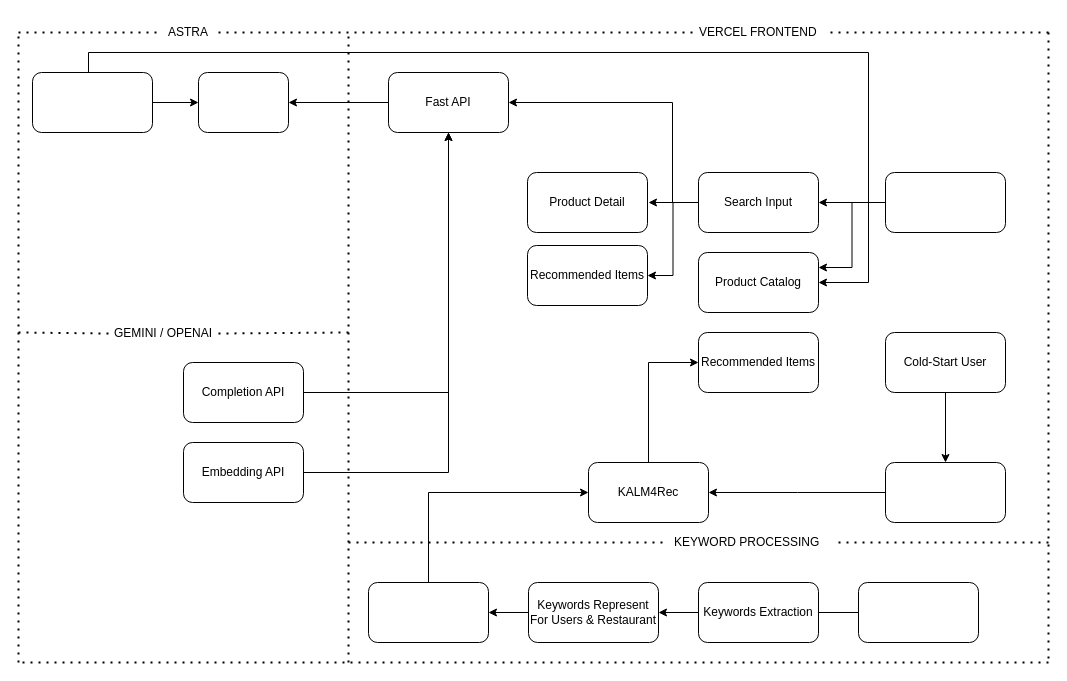
Some shapes in this 1067 by 681 pixel diagram are drawn without their labels. Here are the shapes that lost their labels. From the top down, the box of each, then its label:
(32, 72, 152, 132): Product Data
(198, 72, 288, 132): Similarity Search
(884, 172, 1006, 232): User
(884, 462, 1006, 522): Keywords Selection
(368, 582, 488, 642): Profile Of User's Review For Restaurant
(858, 582, 978, 642): Users Review Restaurants
